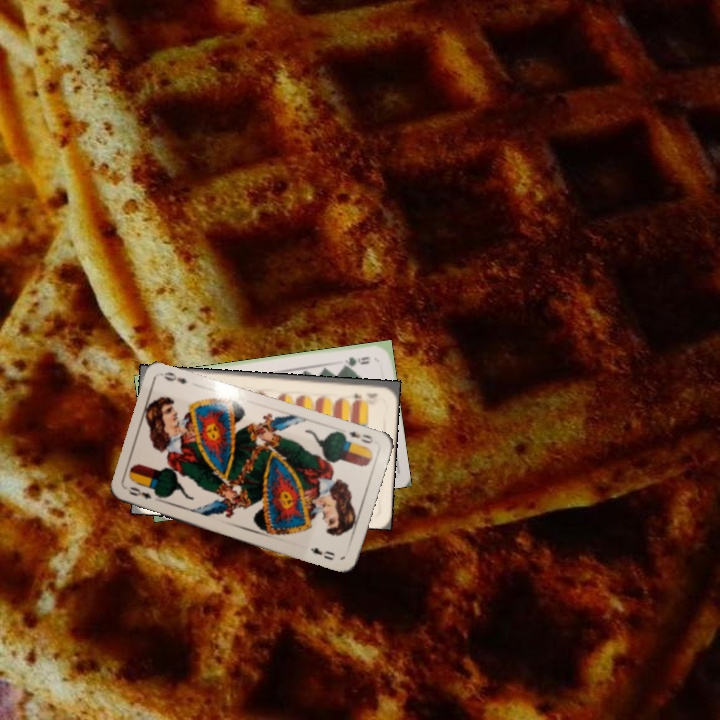E10: (350, 389, 380, 401)
EO: (339, 427, 375, 446), (124, 482, 154, 502)
G9: (338, 352, 372, 369)
